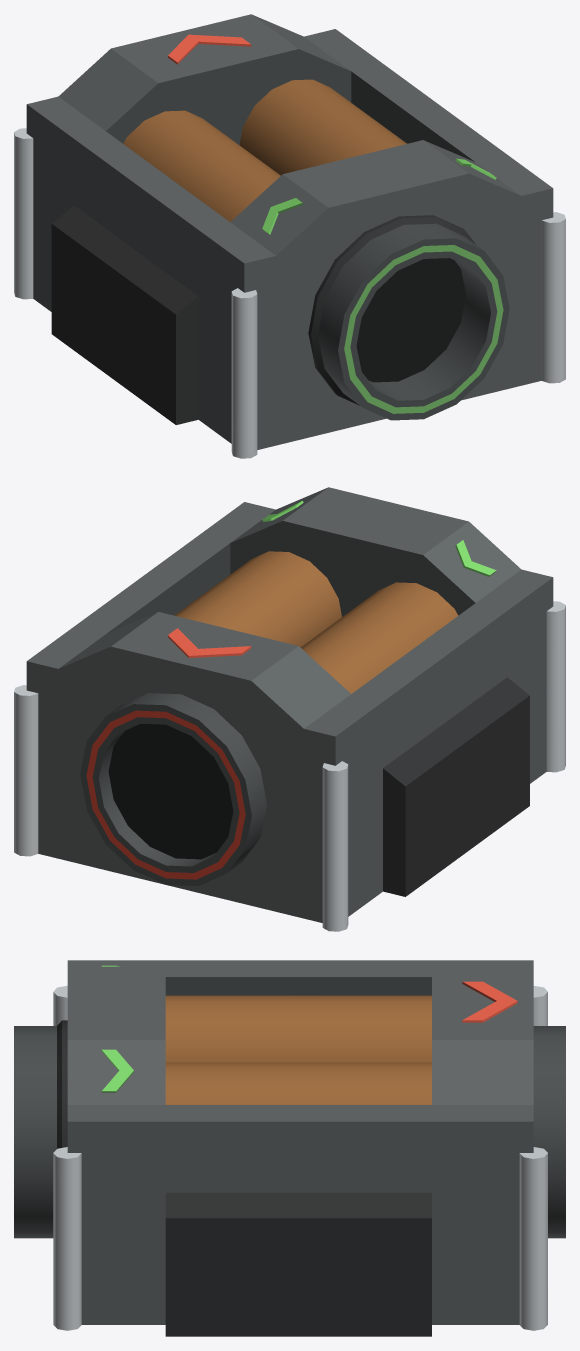
File: m_Dev_Crusher.fbx
The picture shows the model from 3 angles, top to bottom: view 1: azimuth 30°, elevation 25°; view 2: azimuth 150°, elevation 25°; view 3: azimuth 270°, elevation 25°; orthographic projection. The views are drawn at different scales.
Parts seen in each view (by area): view 1: Crusher; view 2: Crusher; view 3: Crusher.
Boxes of the visible parts, x1,y1,x2,y2 form: Crusher: (14, 14, 565, 458); Crusher: (14, 487, 565, 931); Crusher: (14, 960, 565, 1336).
Bounding box in the file's own units: 79.26 × 48.63 × 100.
